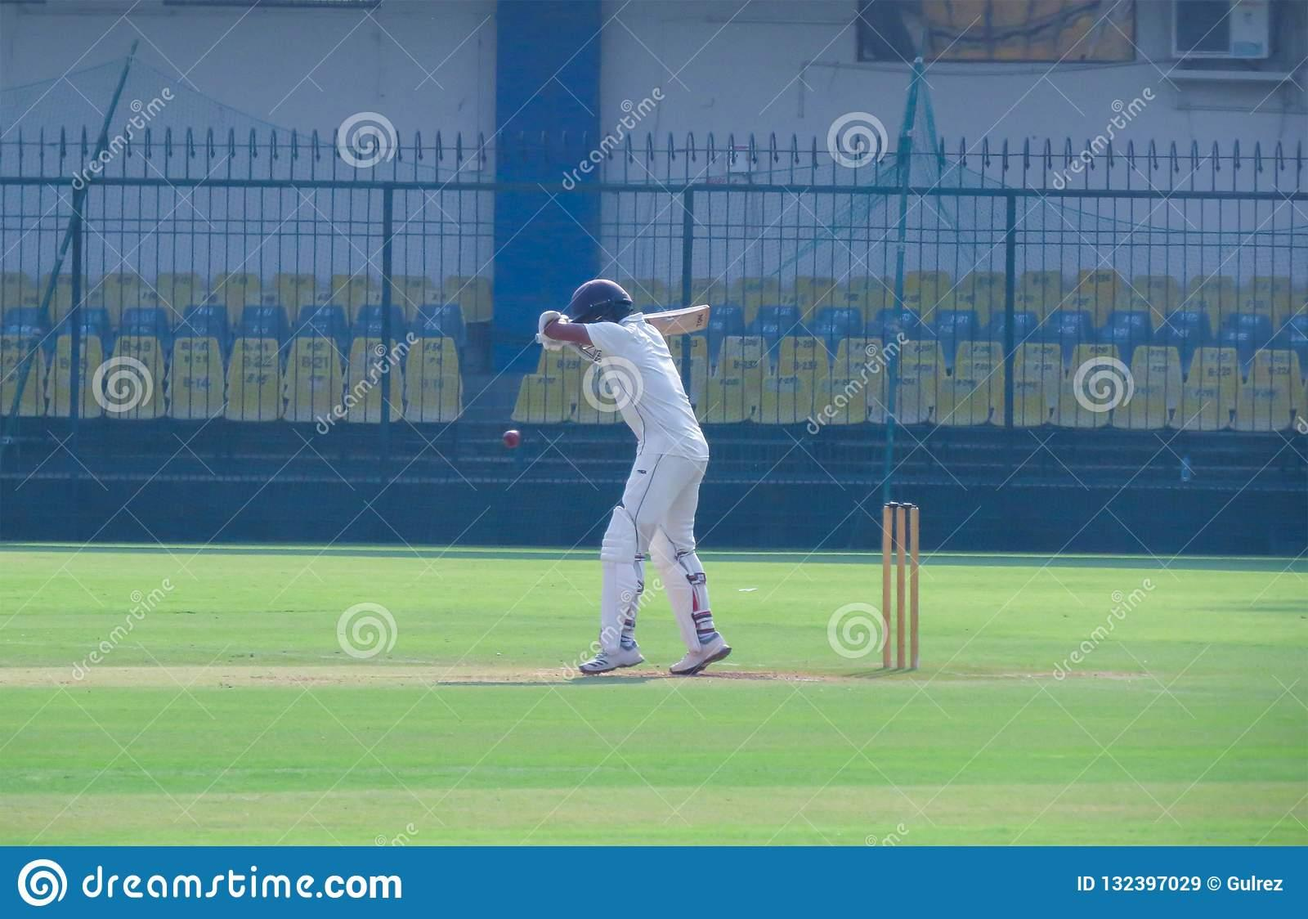batsman: (538, 273, 736, 676)
